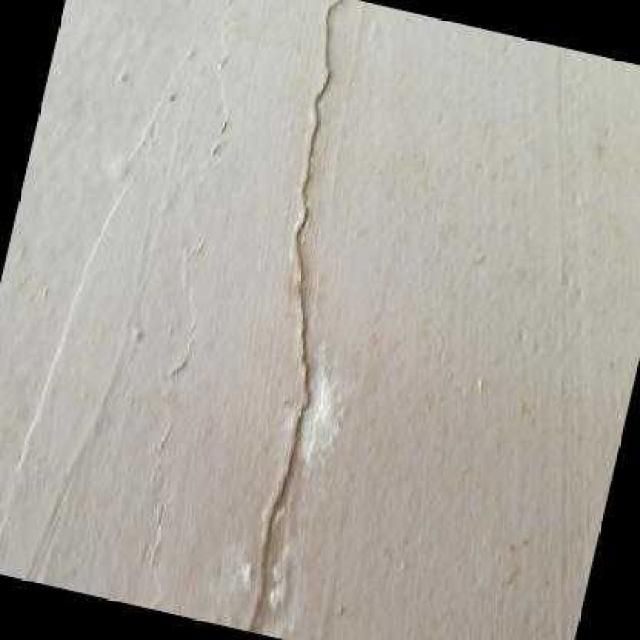D00: (248, 0, 342, 633)
